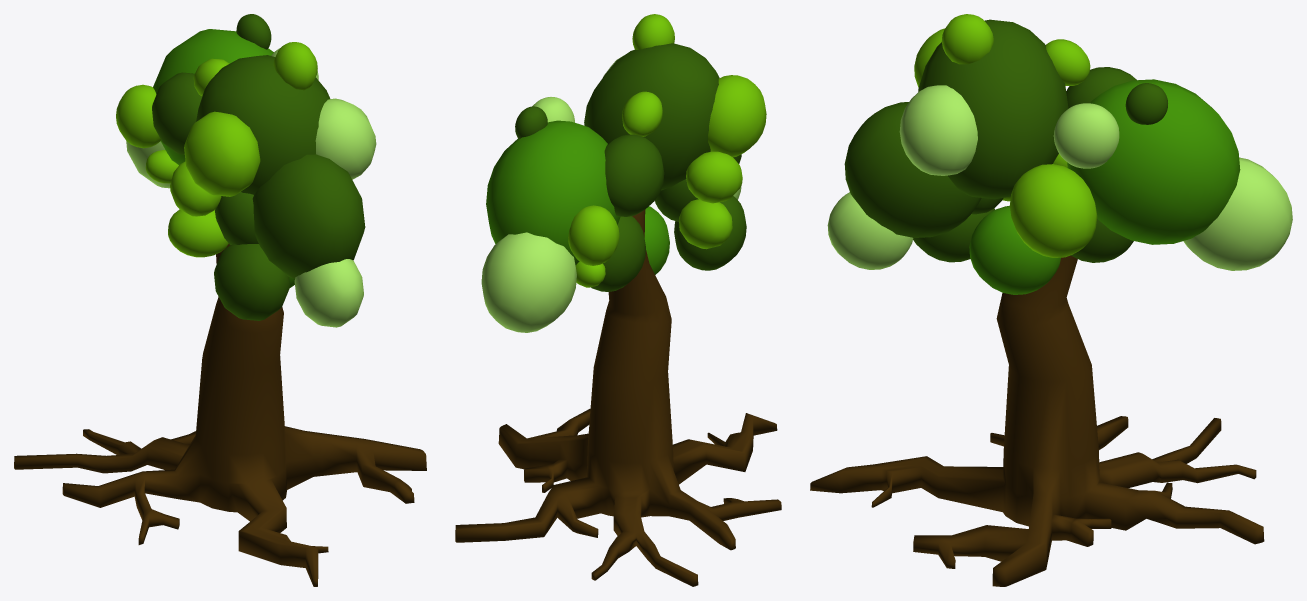
Rendered from l_drzewo_matka_1.fbx.
The picture shows the model from 3 angles, left to right: view 1: azimuth 30°, elevation 25°; view 2: azimuth 150°, elevation 25°; view 3: azimuth 270°, elevation 25°; orthographic projection. The views are drawn at different scales.
Visible parts, largest first — view 1: Cylinder, Sphere.017, Sphere.019, Sphere.015, Sphere.013, Sphere.048, Sphere.012, Sphere.016, Sphere.014, Sphere.007, Sphere.001, Sphere.009 (+6 smaller); view 2: Cylinder, Sphere.016, Sphere.019, Sphere.049, Sphere.014, Sphere.015, Sphere.001, Sphere.008, Sphere.003, Sphere.013, Sphere.007, Sphere.018 (+6 smaller); view 3: Cylinder, Sphere.016, Sphere.019, Sphere.017, Sphere.049, Sphere.006, Sphere.012, Sphere.004, Sphere.048, Sphere.011, Sphere.047, Sphere.013 (+5 smaller).
Part boxes in pixels (x1,y1,x2,y2): Cylinder: (14,244,426,586); Sphere.017: (252,154,365,278); Sphere.019: (196,55,330,194); Sphere.015: (184,111,260,196); Sphere.013: (214,244,289,320); Sphere.048: (294,259,363,327); Sphere.012: (315,98,376,179); Sphere.016: (153,29,273,164); Sphere.014: (152,72,201,154); Sphere.007: (168,209,228,257); Sphere.001: (116,84,160,148); Sphere.009: (215,192,258,244); Cylinder: (455,209,781,586); Sphere.016: (486,120,620,265); Sphere.019: (584,43,719,190); Sphere.049: (481,232,576,332); Sphere.014: (604,134,664,216); Sphere.015: (708,75,766,157); Sphere.001: (568,205,619,265); Sphere.008: (686,151,742,203); Sphere.003: (591,216,645,291); Sphere.013: (674,196,746,270); Sphere.007: (679,199,732,249); Sphere.018: (622,91,662,136); Cylinder: (810,255,1264,586); Sphere.016: (1067,79,1240,244); Sphere.019: (918,19,1068,199); Sphere.017: (844,102,981,237); Sphere.049: (1183,157,1292,270); Sphere.006: (1009,164,1097,257); Sphere.012: (899,85,977,175); Sphere.004: (969,206,1060,294); Sphere.048: (827,192,913,269); Sphere.011: (1053,103,1119,168); Sphere.047: (941,14,993,64); Sphere.013: (913,208,994,262).
Bounding box in the file's own units: 4.3 × 5.52 × 6.33.
